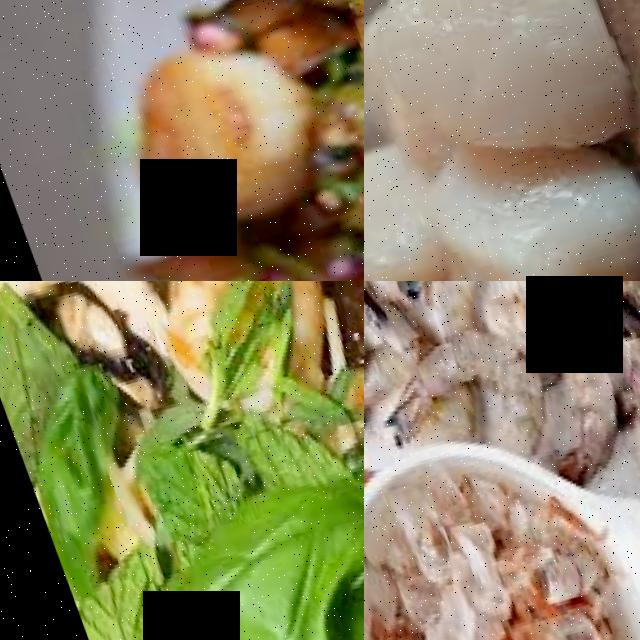sea scallops: (364, 0, 640, 189), (101, 24, 329, 238), (401, 138, 640, 281), (364, 132, 459, 281)
shrimp: (489, 282, 632, 481), (581, 292, 640, 513), (392, 281, 560, 322)
